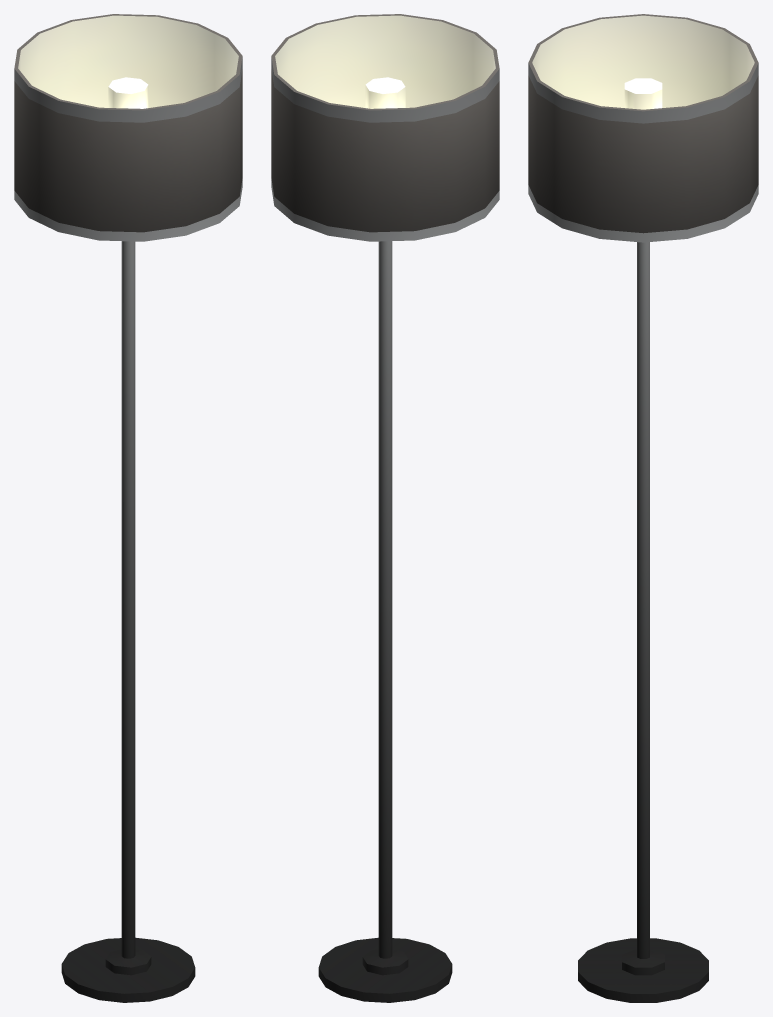
File: Light_StandingLight_A.fbx
3 renders of one model, left to right at view 1: azimuth 30°, elevation 25°; view 2: azimuth 150°, elevation 25°; view 3: azimuth 270°, elevation 25°, orthographic.
Parts seen in each view (by area): view 1: Light_StandingLight_A; view 2: Light_StandingLight_A; view 3: Light_StandingLight_A.
Part boxes in pixels (bbox=[...]): Light_StandingLight_A: bbox=[14, 14, 242, 1002]; Light_StandingLight_A: bbox=[271, 14, 499, 1002]; Light_StandingLight_A: bbox=[528, 14, 758, 1002].
Size of the model in its own units: 28.72 by 126 by 28.72.
